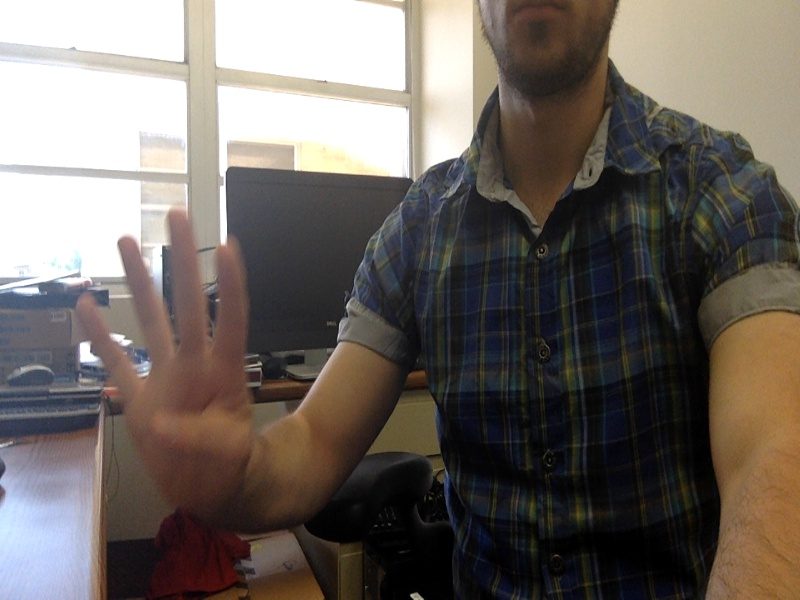4-hand: (74, 210, 256, 528)
